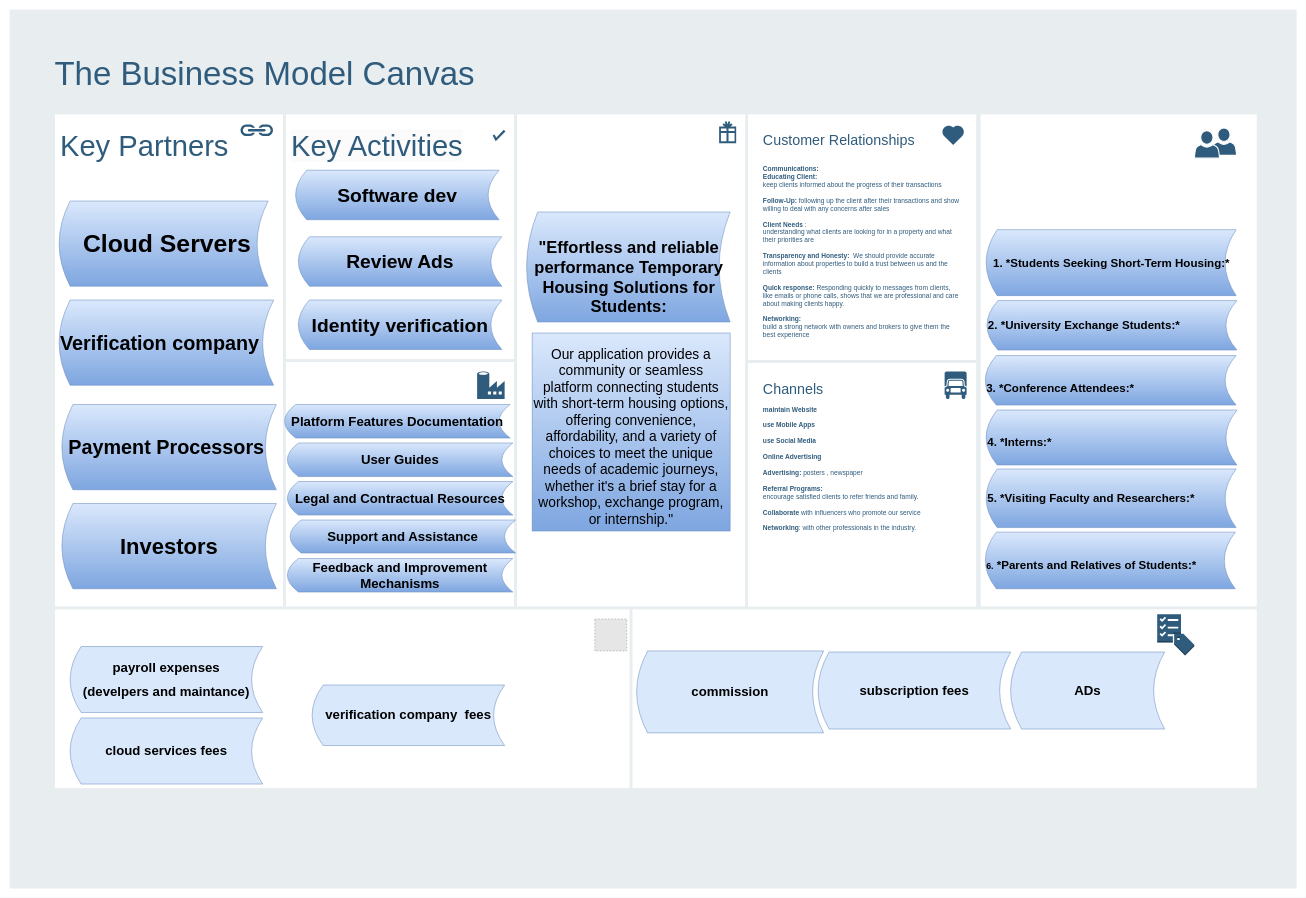
The diagram is 1306 pixels wide and 898 high, and some of its shapes have lost their labels. Grey dashed boxes stand in for pictures. Each missing label, with the box of its shape:
Cost Structure: (52, 606, 632, 791)
Customer Segments: (978, 111, 1259, 609)
Key Resources: (283, 359, 517, 609)
Revenue Streams: (629, 606, 1259, 791)
Value Propositions: (514, 111, 748, 609)
